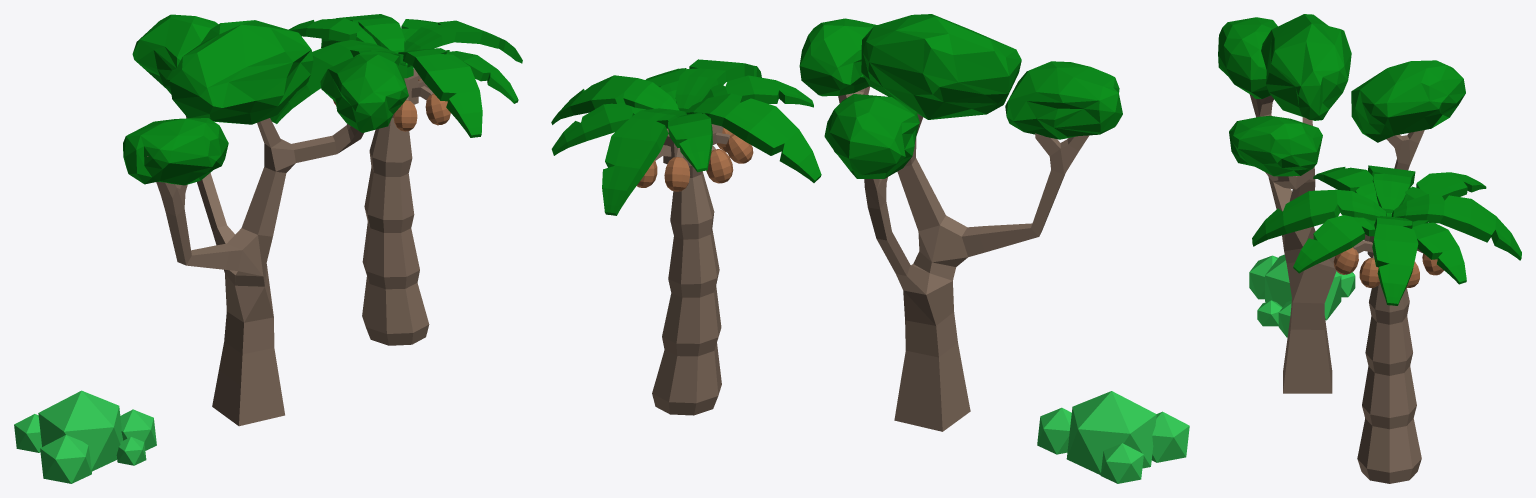
The model's file is treesandbushes.fbx.
The picture shows the model from 3 angles, left to right: view 1: azimuth 30°, elevation 25°; view 2: azimuth 150°, elevation 25°; view 3: azimuth 270°, elevation 25°; orthographic projection. The views are drawn at different scales.
Parts seen in each view (by area): view 1: Icosphere.003, palm, Icosphere.008; view 2: Icosphere.003, palm, Icosphere.008; view 3: Icosphere.003, palm, Icosphere.008.
Boxes of the visible parts, <box> form: Icosphere.003: <box>123,14,408,426</box>; palm: <box>270,14,522,345</box>; Icosphere.008: <box>14,390,156,483</box>; Icosphere.003: <box>799,14,1122,431</box>; palm: <box>551,59,821,415</box>; Icosphere.008: <box>1037,391,1189,483</box>; Icosphere.003: <box>1218,14,1465,393</box>; palm: <box>1252,165,1521,483</box>; Icosphere.008: <box>1249,254,1355,337</box>.
Bounding box in the file's own units: 1360 × 952 × 714.
